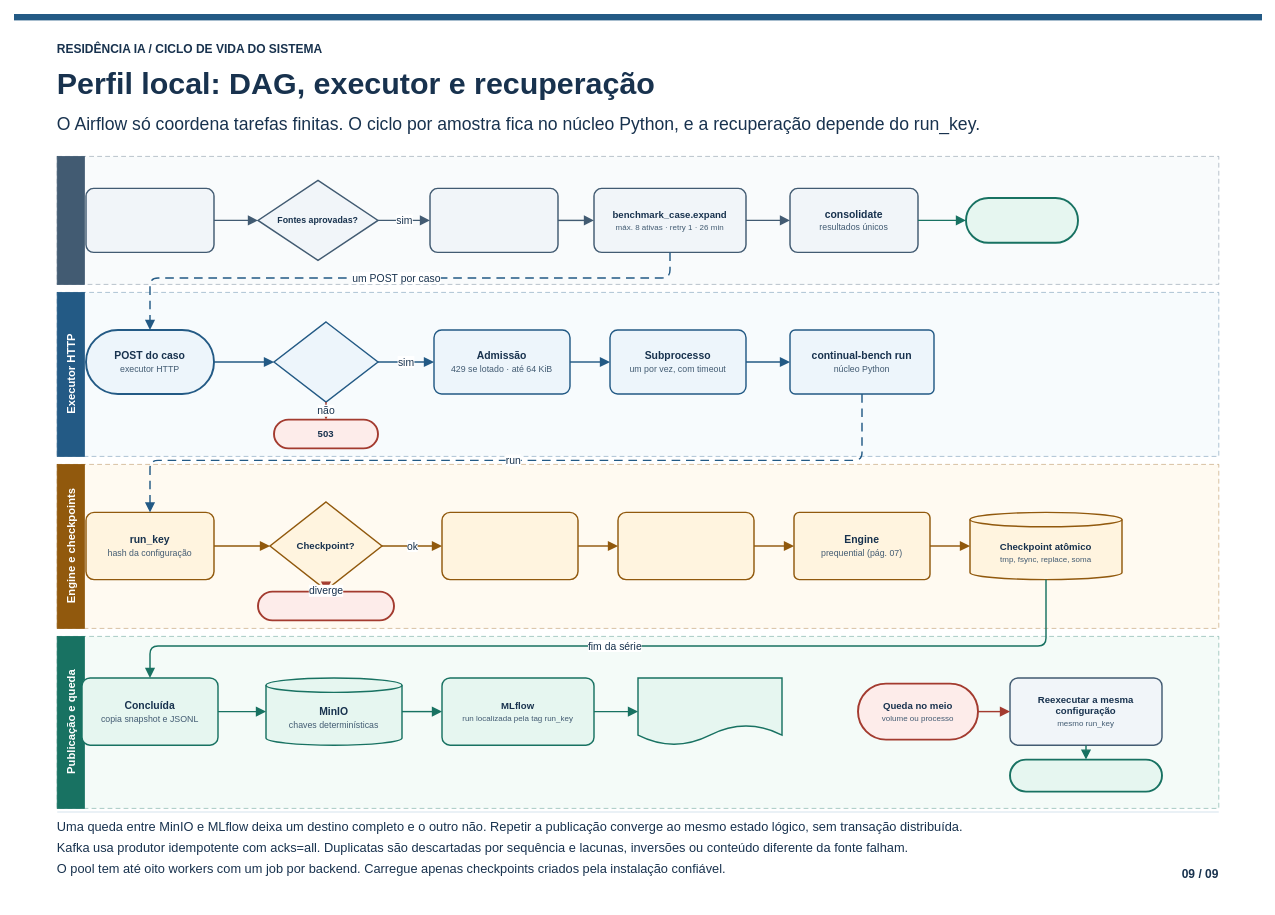
This 1275x915 diagram has some shape labels left out. The centre of each missing label's shape, as x and y in pixels:
"/ready?" goes at [325,361].
"admit_datasets readiness em até 60 s" goes at [149,220].
"Airflow" goes at [70,220].
"Contrato incompatível" goes at [326,605].
"Estado lógico igual" goes at [1086,775].
"Lê fonte e eventos JSONL ou Kafka (1 partição)" goes at [685,545].
"plan casos por seed e dataset" goes at [493,220].
"receipt.json só depois dos dois destinos" goes at [709,711].
"Retoma ou inicia recalcula o trecho posterior" goes at [509,545].
"Suíte pronta" goes at [1022,220].
